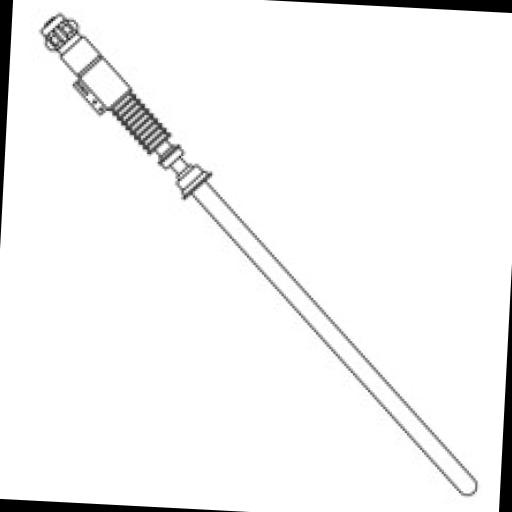lightsaber: (16, 13, 503, 498)
